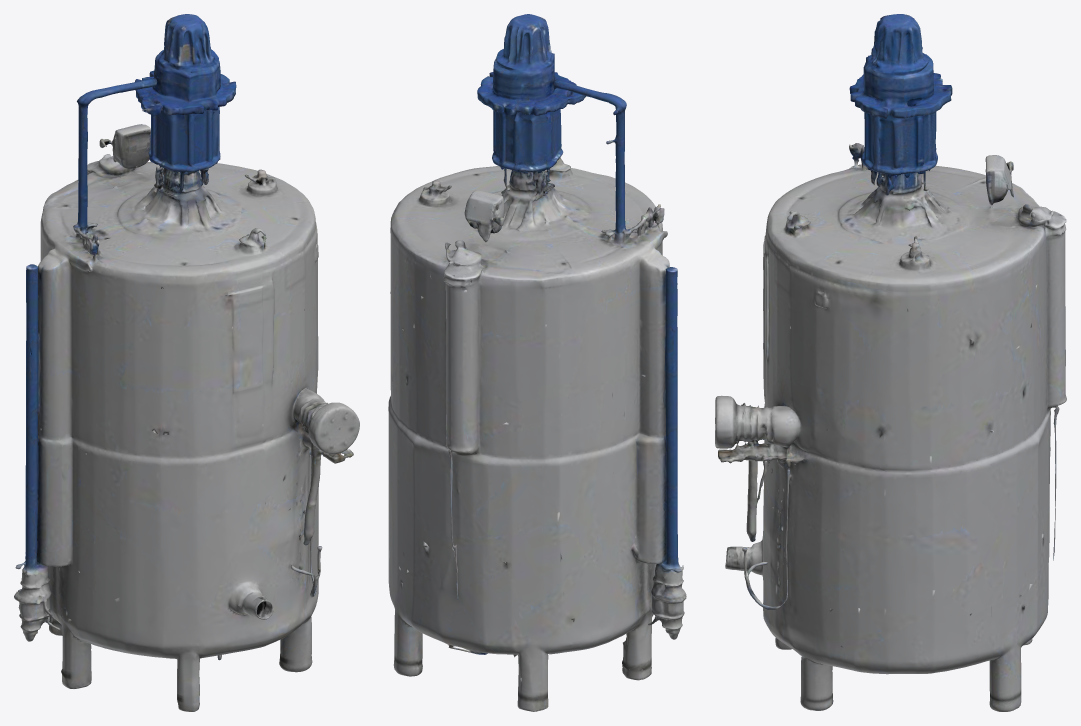
File: scrubber.glb
3 views of the same model, side by side, from view 1: azimuth 30°, elevation 25°; view 2: azimuth 150°, elevation 25°; view 3: azimuth 270°, elevation 25° (orthographic). The views are drawn at different scales.
Bounding box in the file's own units: 0.9277 × 2 × 0.9774.
Materials: 1 (1 with a texture image).
